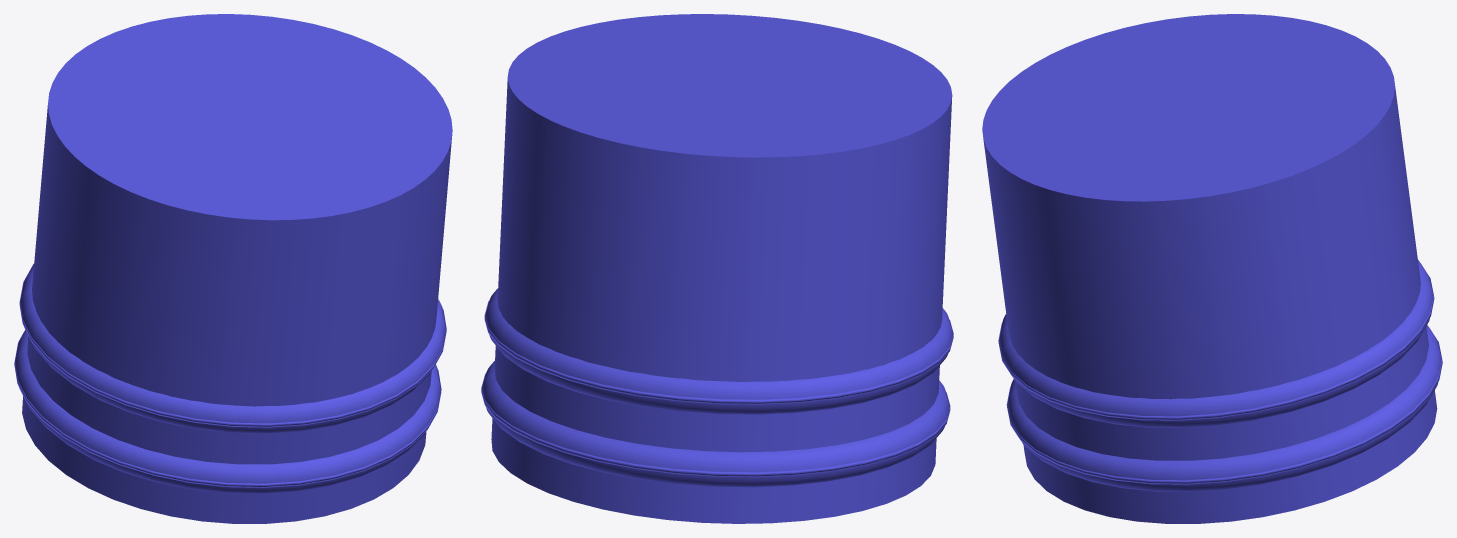
File: bombilla208.obj
The picture shows the model from 3 angles, left to right: view 1: azimuth 30°, elevation 25°; view 2: azimuth 150°, elevation 25°; view 3: azimuth 270°, elevation 25°; orthographic projection. The views are drawn at different scales.
Parts seen in each view (by area): view 1: Cylinder001, Cylinder004, Cylinder002, Cylinder003, Cylinder006; view 2: Cylinder001, Cylinder004, Cylinder003, Cylinder006, Cylinder002; view 3: Cylinder001, Cylinder004, Cylinder003, Cylinder002, Cylinder006.
Boxes of the visible parts, box(x1,y1,x2,y2) form: Cylinder001: box(32, 14, 452, 406); Cylinder004: box(14, 330, 441, 493); Cylinder002: box(19, 263, 446, 433); Cylinder003: box(27, 336, 431, 464); Cylinder006: box(22, 396, 426, 523); Cylinder001: box(497, 14, 952, 381); Cylinder004: box(481, 361, 950, 487); Cylinder003: box(494, 346, 939, 452); Cylinder006: box(491, 418, 936, 523); Cylinder002: box(484, 288, 953, 414); Cylinder001: box(982, 14, 1420, 399); Cylinder004: box(1006, 325, 1442, 491); Cylinder003: box(1015, 326, 1428, 460); Cylinder002: box(998, 260, 1434, 427); Cylinder006: box(1023, 390, 1437, 523).
Size of the model in its own units: 72.45 by 67.23 by 75.85.
